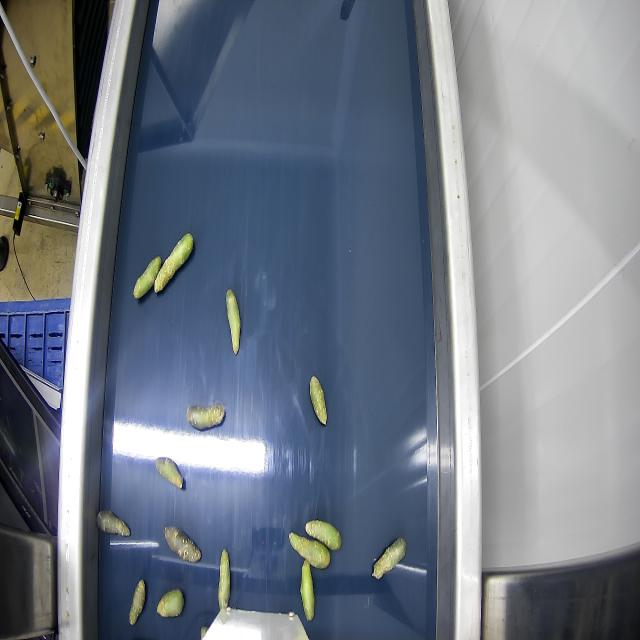Baby Potato: (155, 231, 193, 297), (126, 252, 160, 299), (290, 530, 332, 568), (372, 536, 408, 579), (164, 524, 200, 562), (299, 560, 317, 630), (306, 518, 342, 551), (186, 403, 226, 430), (225, 287, 241, 350), (96, 509, 130, 538), (310, 377, 328, 429), (155, 457, 183, 489), (128, 578, 146, 626), (156, 588, 184, 618), (218, 548, 230, 618)
